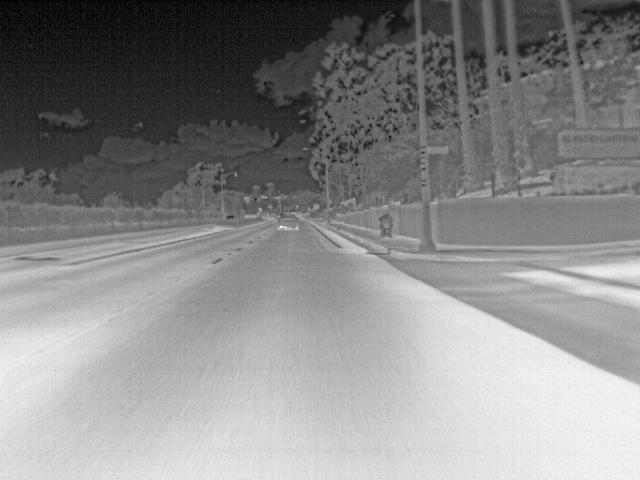car: (277, 214, 297, 230)
person: (379, 214, 393, 235)
